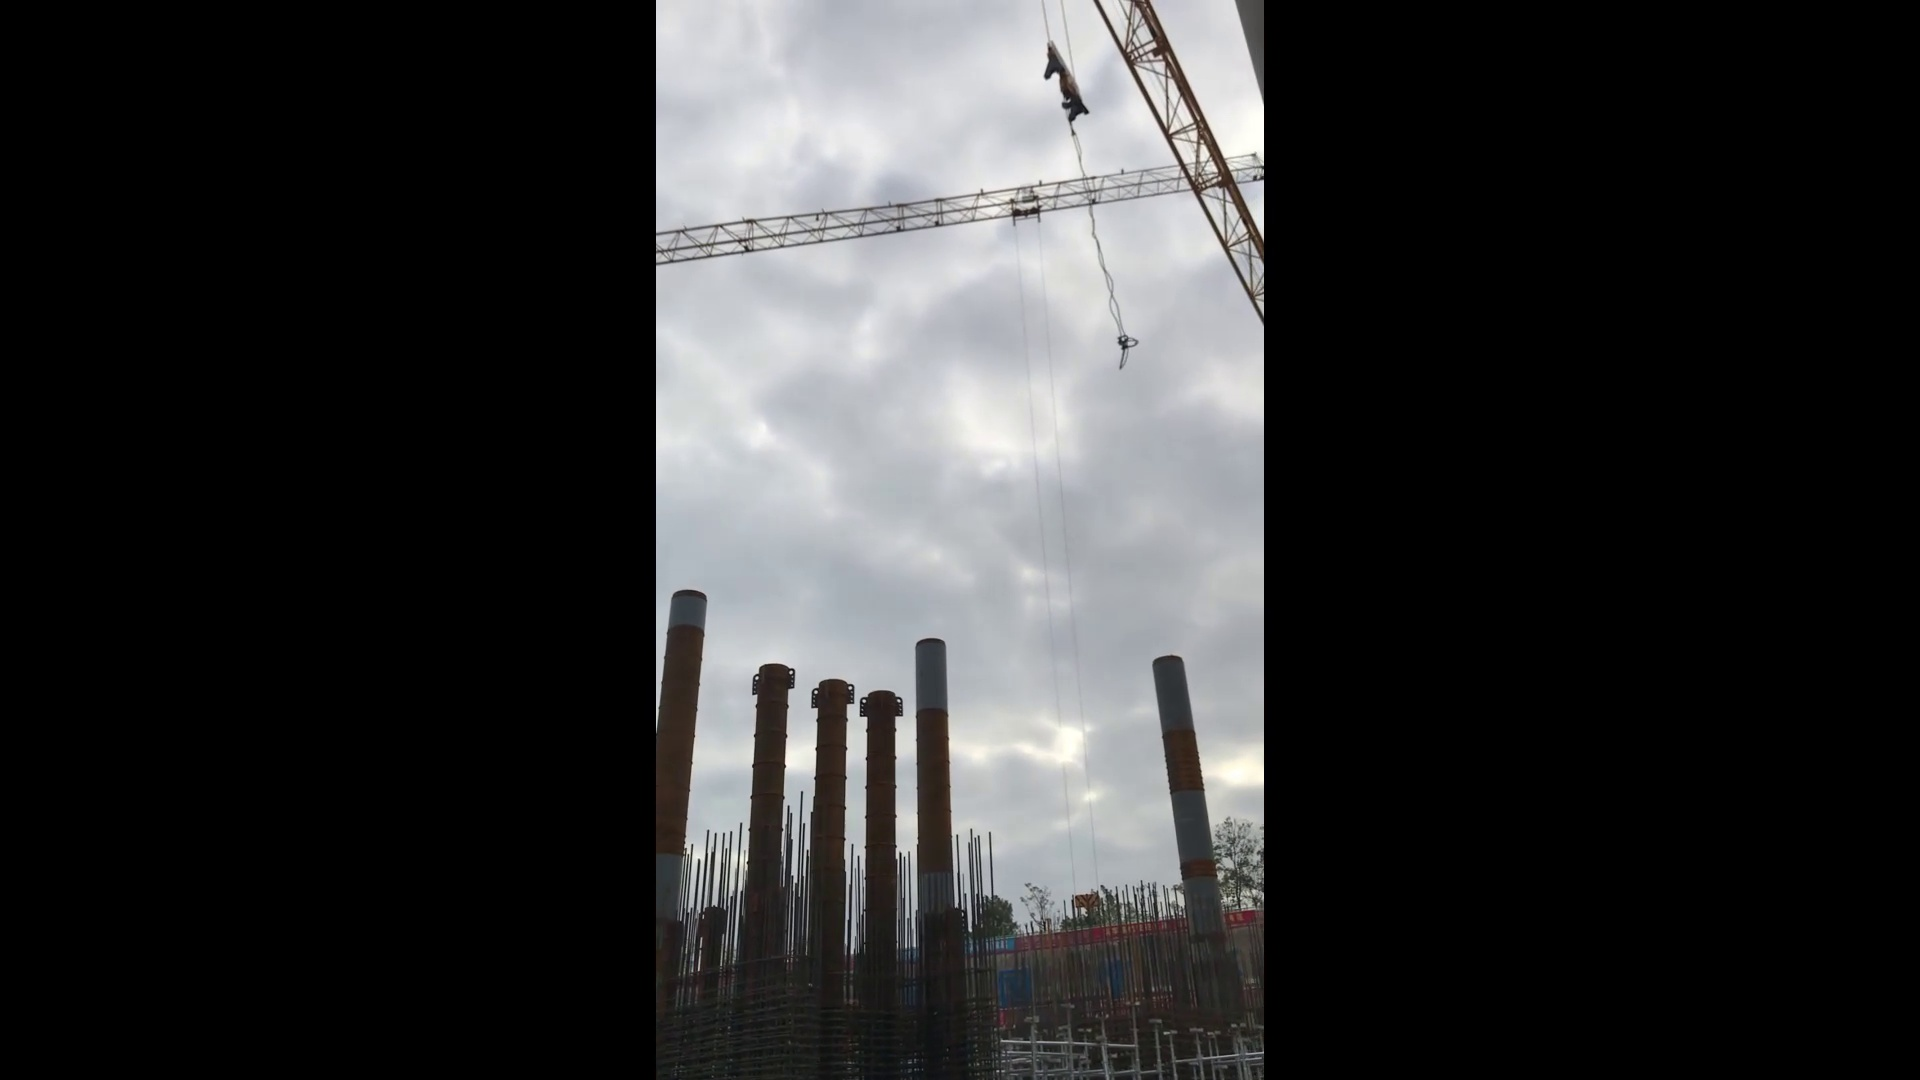hook: (1038, 36, 1106, 145), (1071, 891, 1101, 914)
